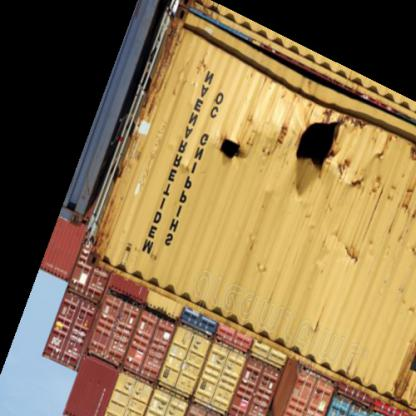Damage: (288, 100, 354, 186), (370, 159, 415, 258), (215, 122, 261, 184)
